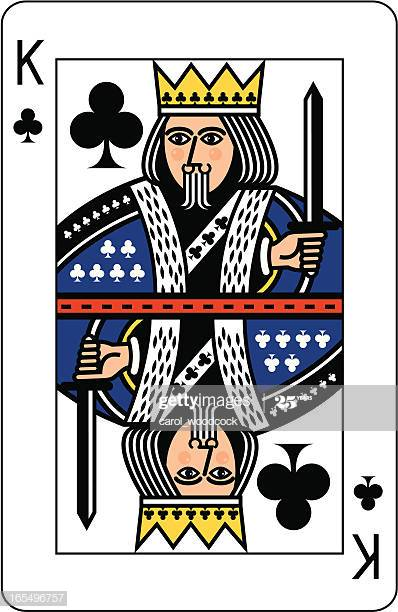king of clubs: (3, 5, 393, 612)
